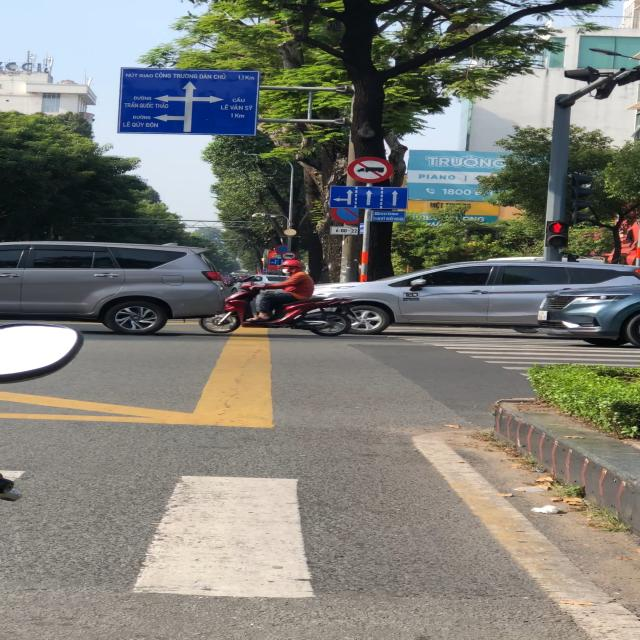Bien bao cam xe so-mi ro-mooc: (346, 153, 396, 184), (278, 250, 298, 261)
